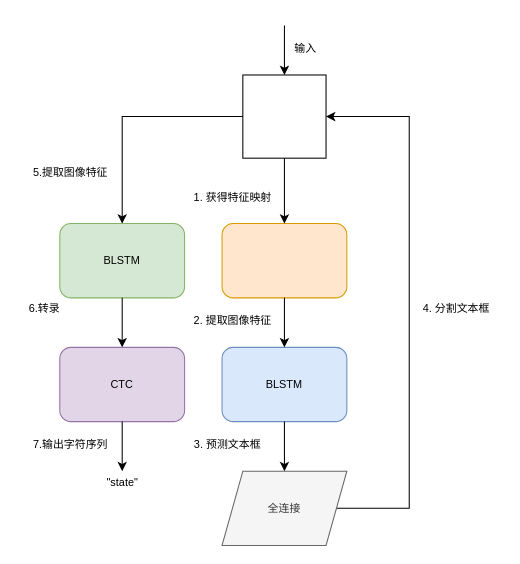
The diagram is 520 pixels wide and 564 high, and some of its shapes have lost their labels. The centre of each missing label's shape, as x and y in pixels:
图像样本: pixel 284 116
多层融合TPCANet: pixel 284 260
